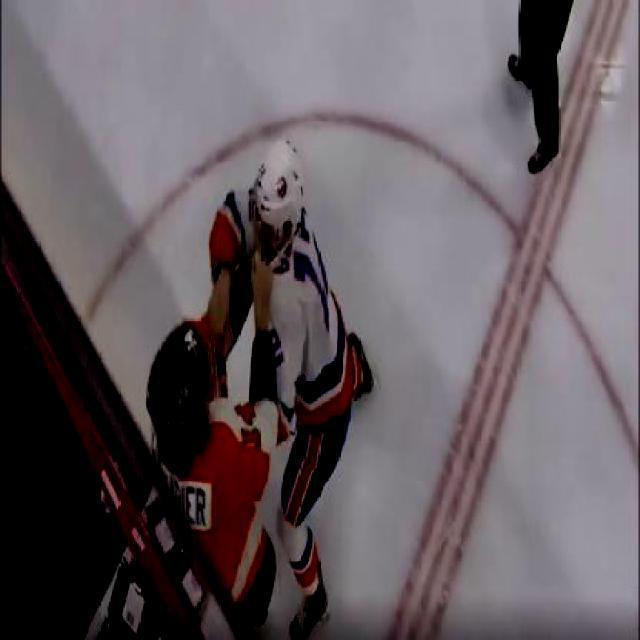fight: (144, 142, 373, 638)
